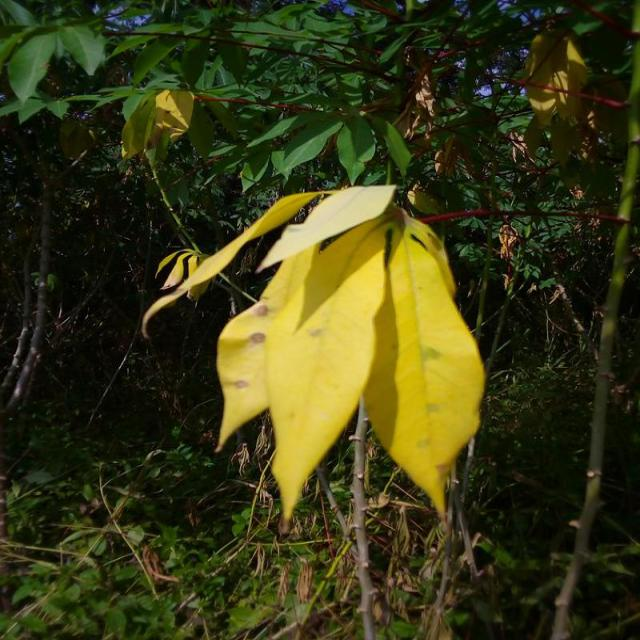cassava leaf: (212, 184, 486, 534)
